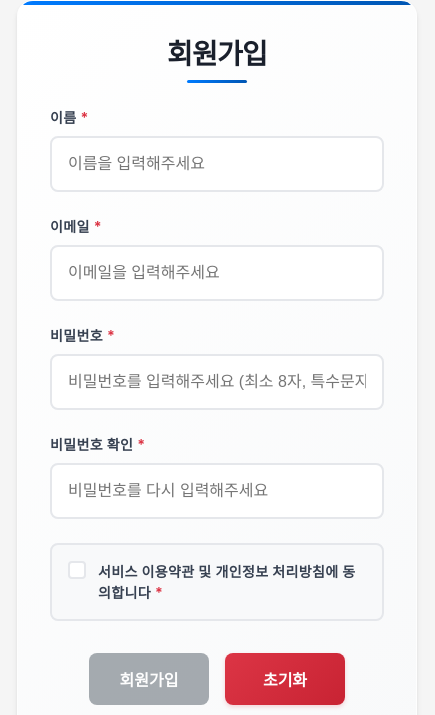
it: SignUpForm Integration Tests › Submit Button State Management › should show loading state during submission
# Fill form with valid data
Type "홍길동" into the field labelled "이름*" at (217, 164), box [50,136,384,192]
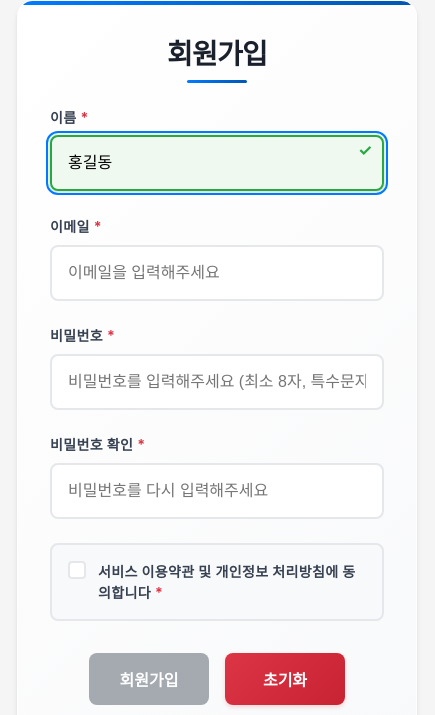
Type "hong@example.com" into the field labelled "이메일*" at (217, 273), box [50,245,384,301]
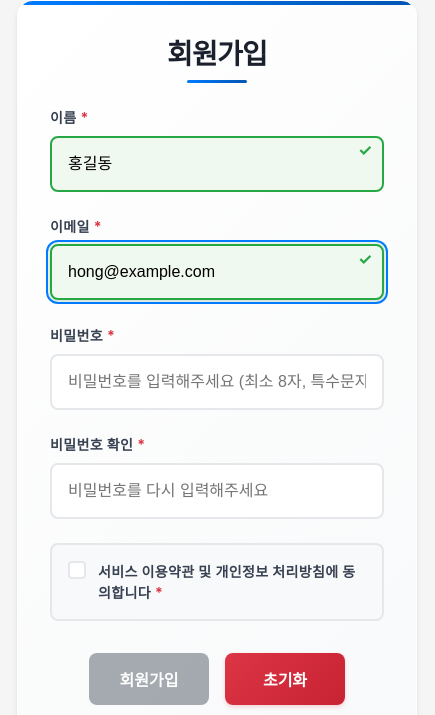
Type "password123!" into the password field labelled "비밀번호*" at (217, 382), box [50,354,384,410]
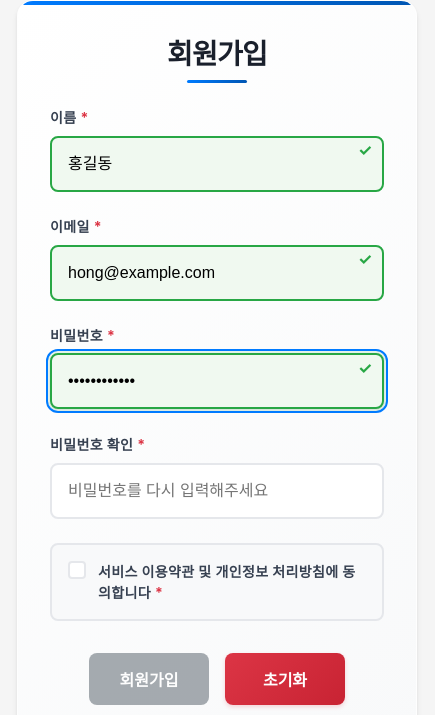
Type "password123!" into the password field labelled "비밀번호 확인*" at (217, 491), box [50,463,384,519]
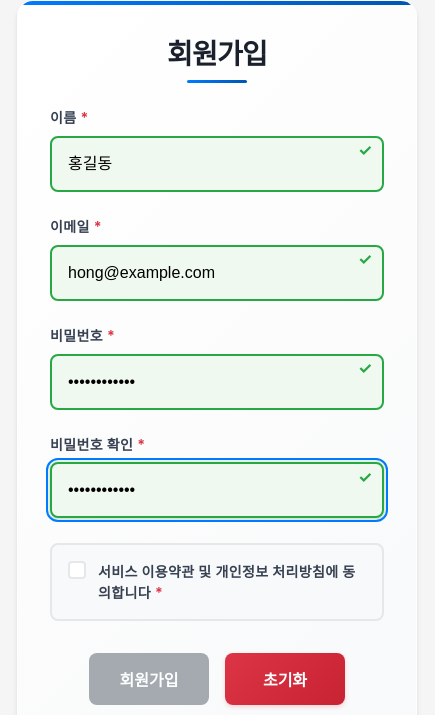
Click the checkbox labelled "서비스 이용약관 및 개인정보 처리방침에 동의합니다*" at (77, 570), box [68,561,86,579]
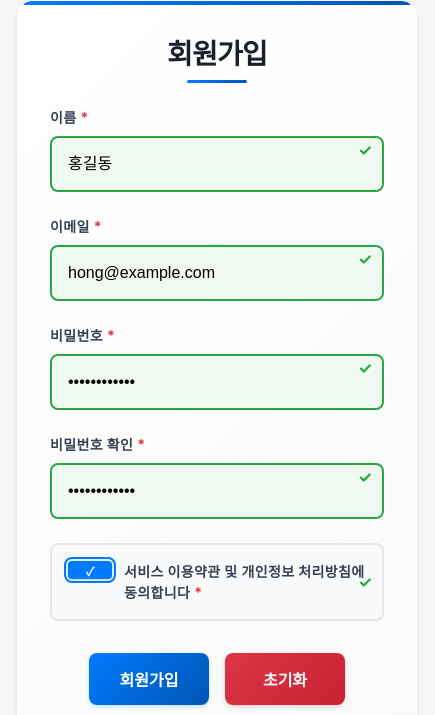
Click the button "회원가입" at (149, 679), box [89,653,209,705]
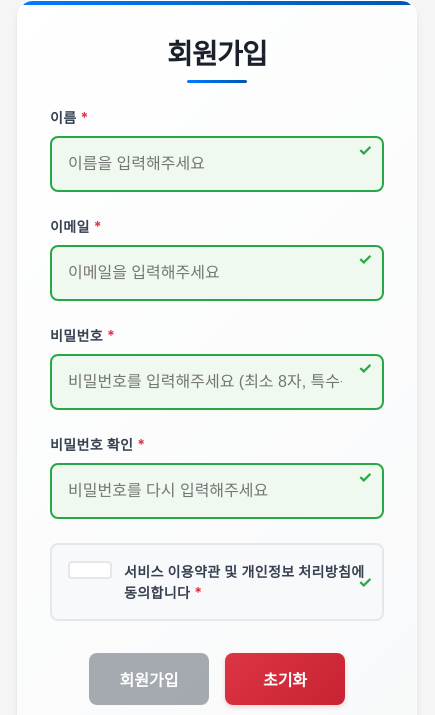
Check: the heading "회원가입" is shown, box [167,37,267,71]
Check: the button "처리 중..." is disabled, box [89,653,209,705]
